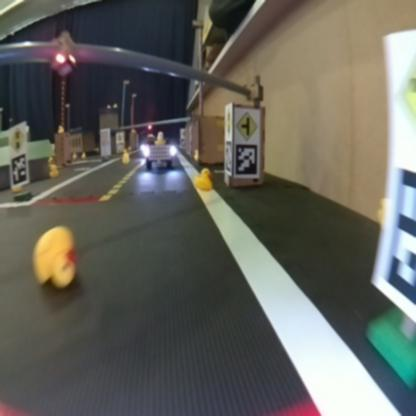duckie: (13, 206, 87, 295), (192, 157, 216, 204), (150, 126, 167, 148)
duckiebot: (138, 139, 180, 176)
